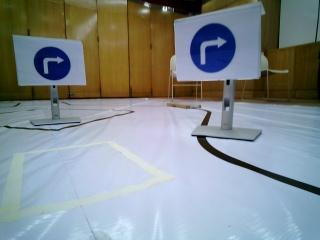right: (172, 18, 259, 81), (12, 34, 85, 84)
